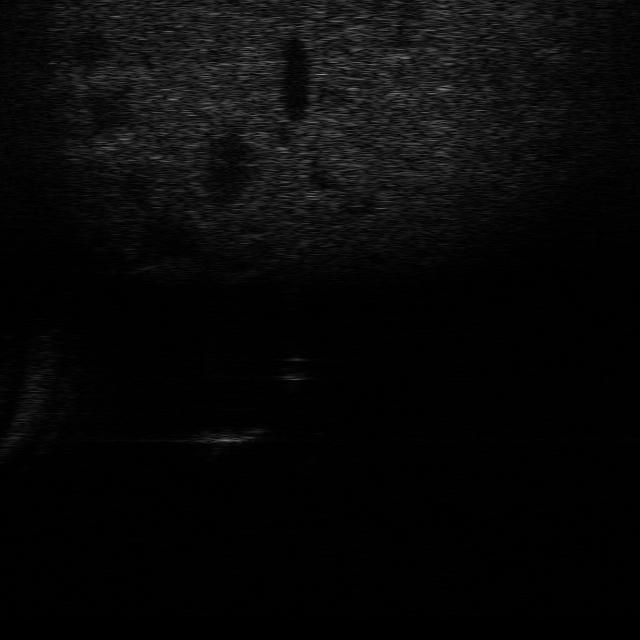ball: (264, 348, 321, 392)
circle cage: (188, 420, 272, 462)
tyre: (278, 432, 332, 471)
